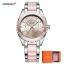watch: (16, 9, 50, 49)
